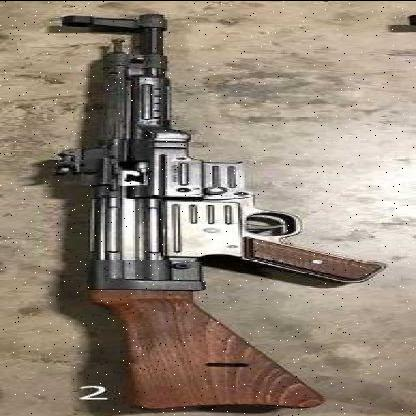rifle: (0, 1, 414, 411)
